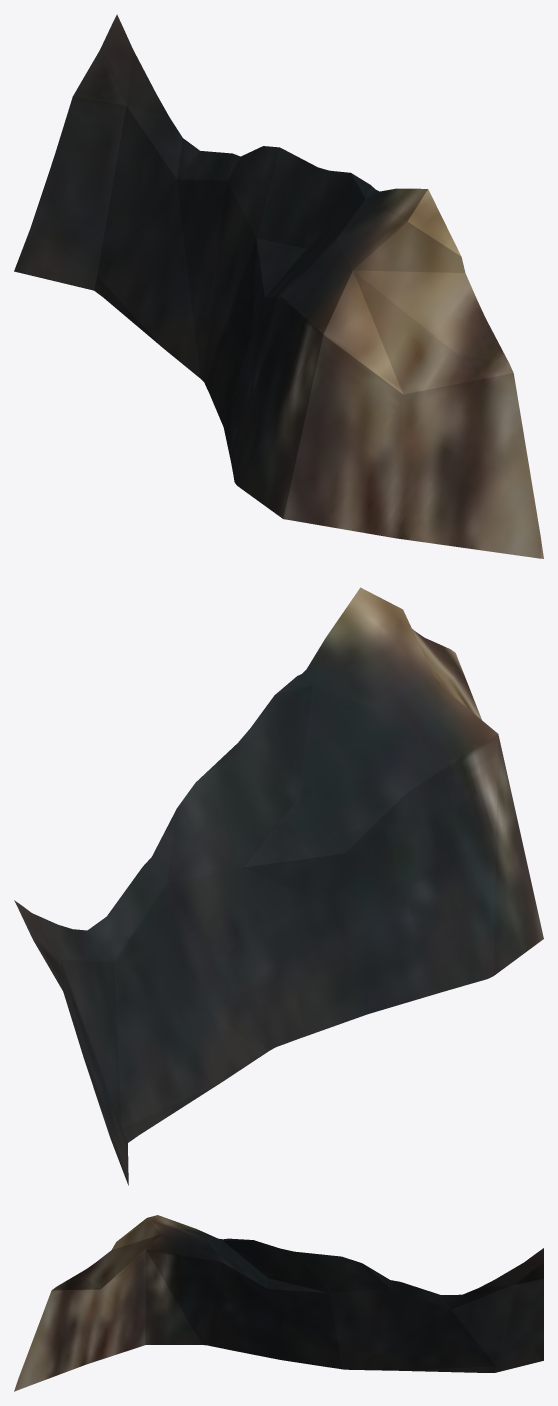
3 views of the same model, one above another, from view 1: azimuth 30°, elevation 25°; view 2: azimuth 150°, elevation 25°; view 3: azimuth 270°, elevation 25° (orthographic). The views are drawn at different scales.
Size of the model in its own units: 7.32 by 12.85 by 34.87.
Materials: 1 (1 with a texture image).
